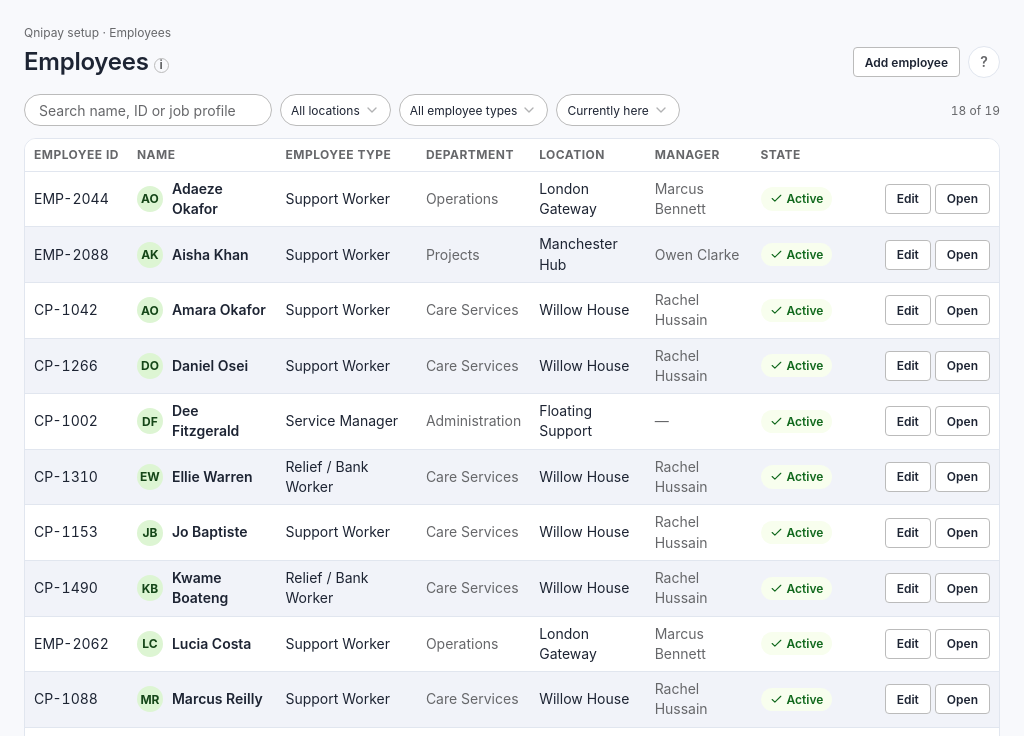
Test case: the aemployees page offers a ? that opens its guide, section by section
The image size is (1024, 736).
What coordinates should you click on to do the following:
click the button "?"
I would click on:
 (984, 62)
Its box is [968,46,1000,78].
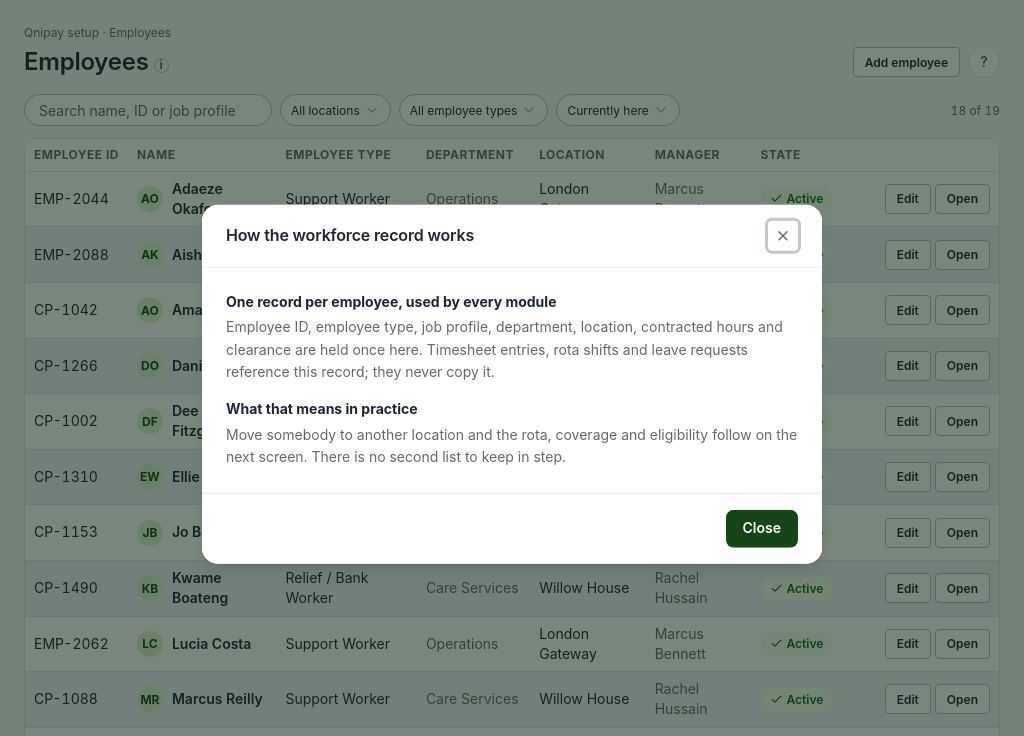
Check: the heading with test id "modal-title" reads "How the workforce record works", box [226,225,474,245]
Check: the heading "One record per employee, used by every module" is shown, box [226,293,556,310]
Check: the dialog shows "Employee ID, employee type, job profile, department, location, contracted hours and clearance are held once here. Timesheet entries, rota shifts and leave reque", box [226,318,783,380]
What coordinates should you click on to do the following:
click the button with test id "guide-close"
I would click on:
 (762, 528)
Its box is [726,509,798,547].
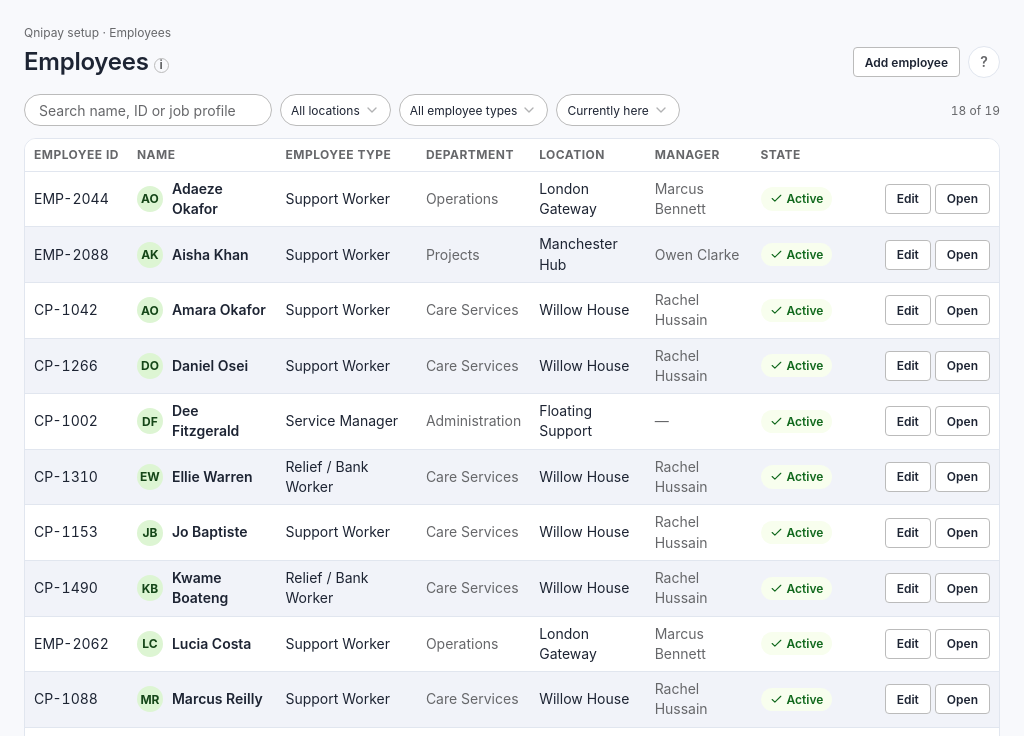
Check: the dialog is gone
